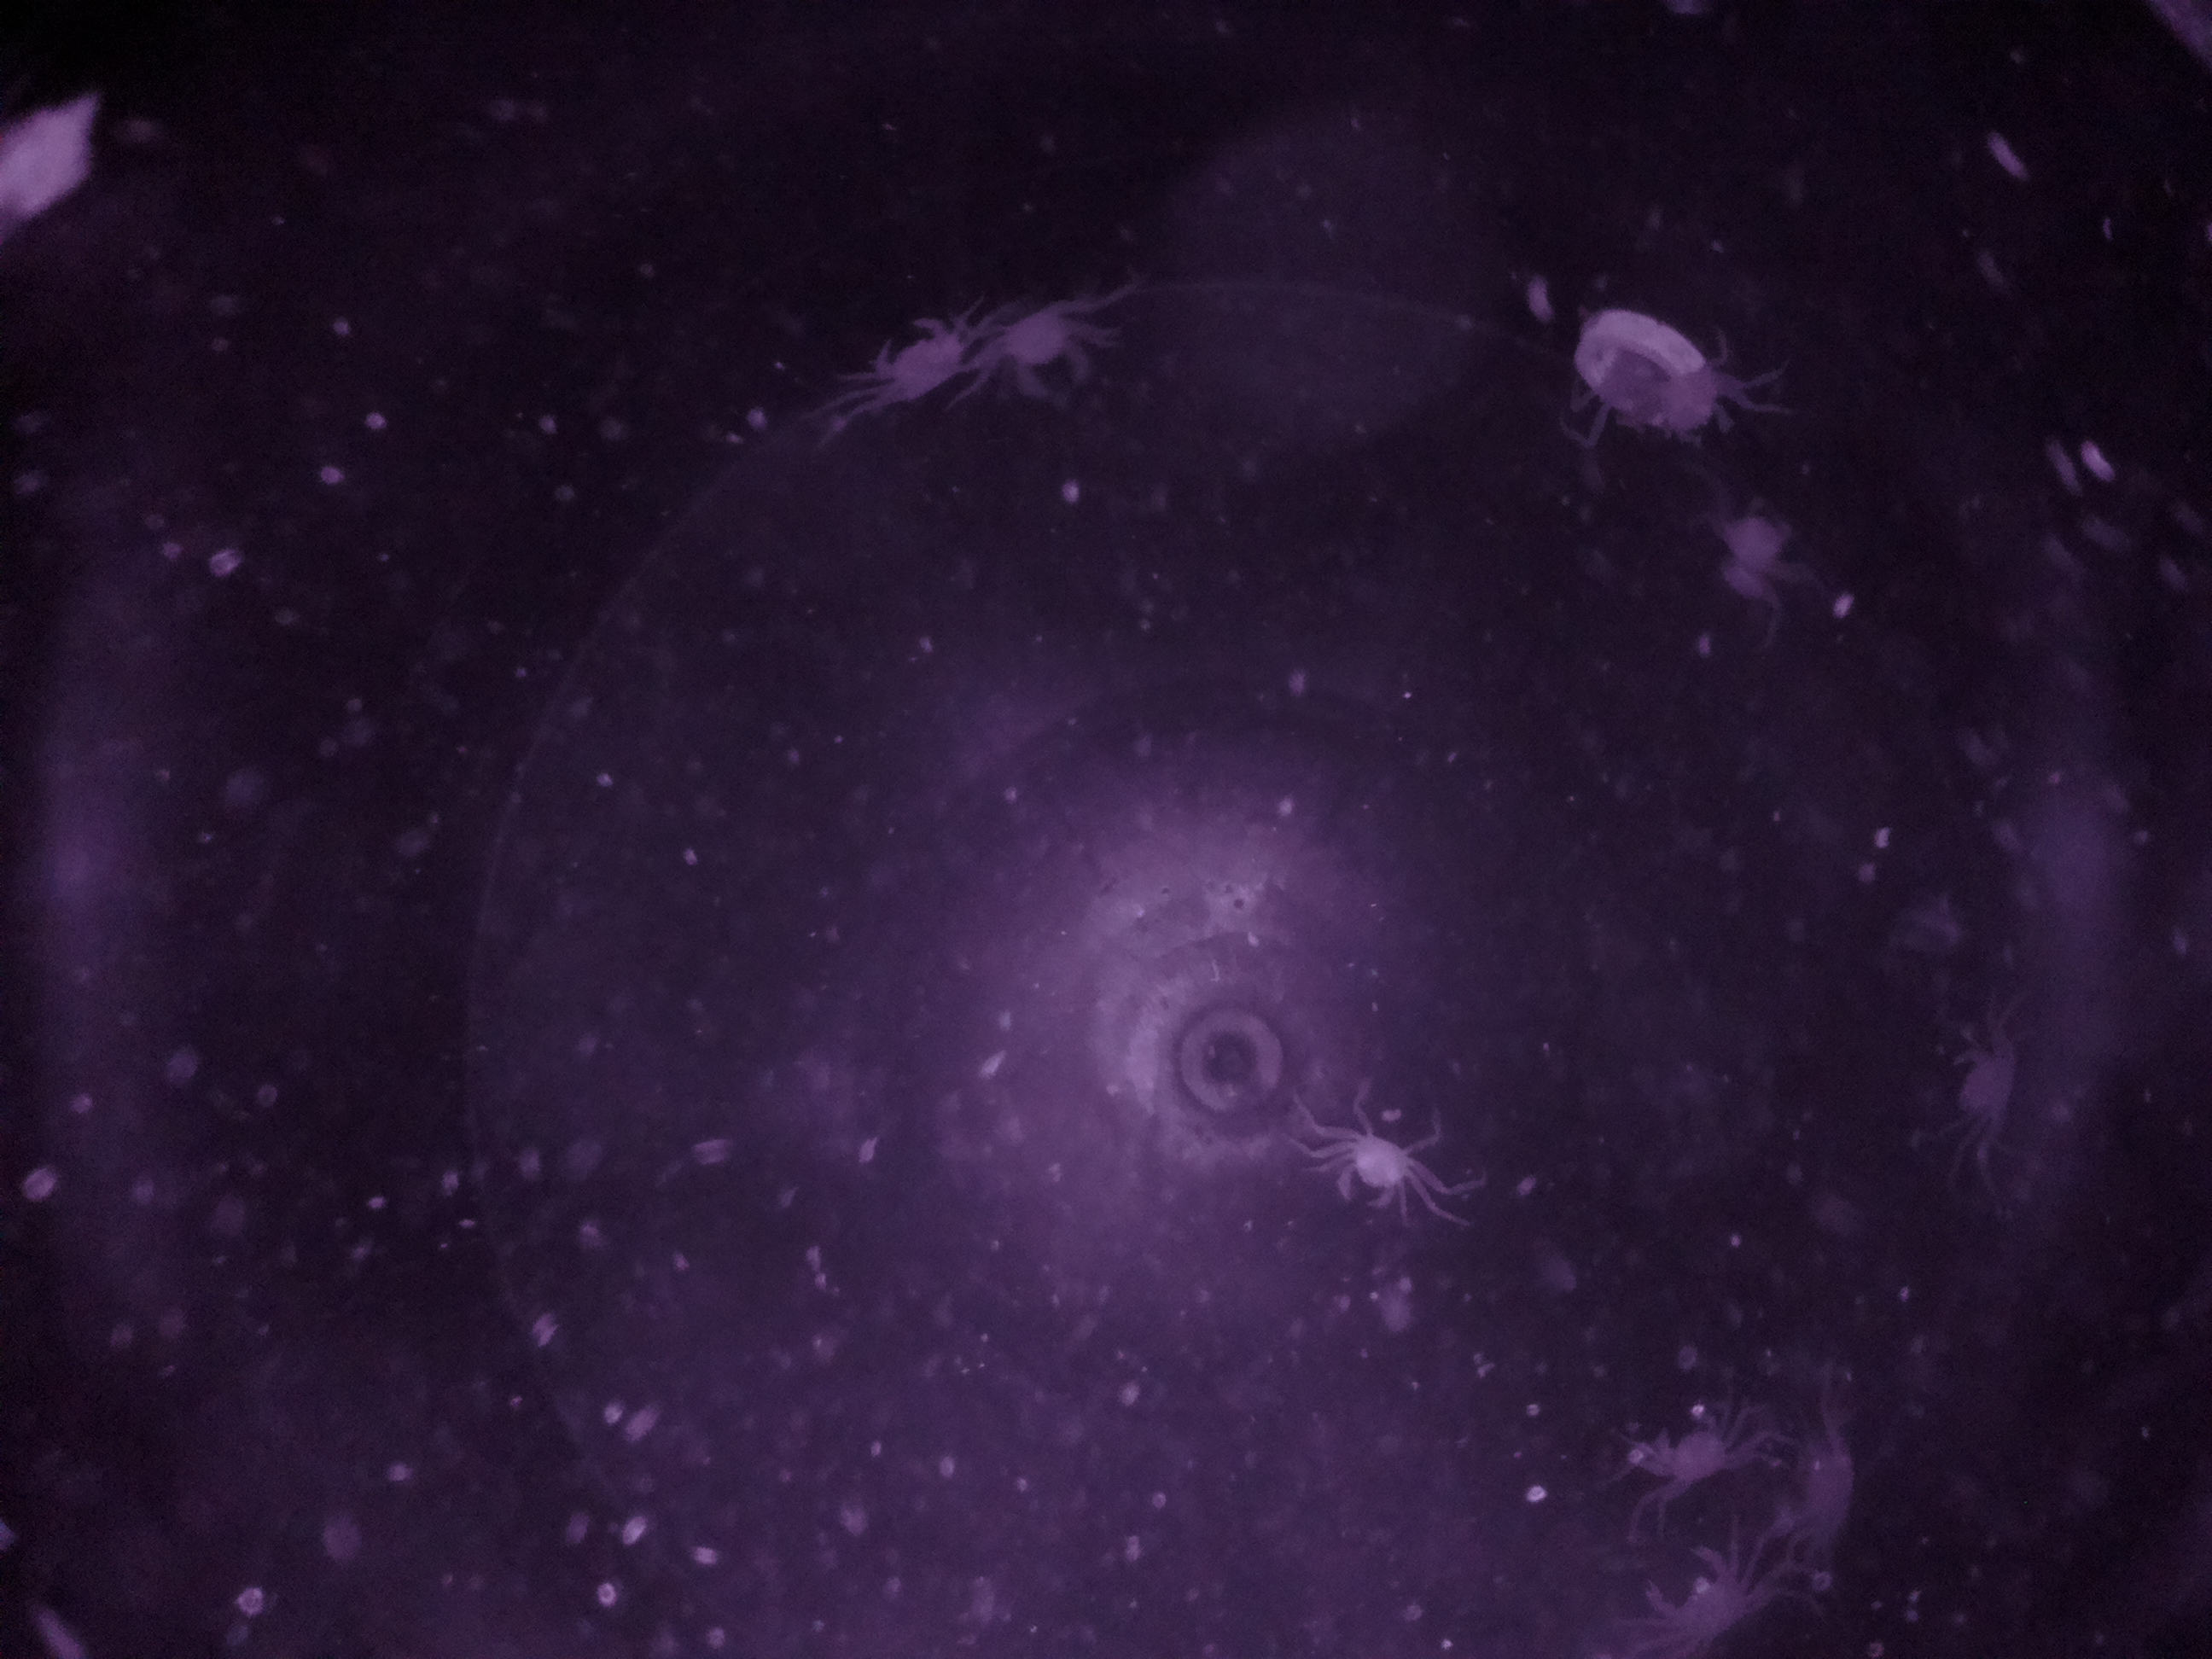Crab: (1632, 1530, 1778, 1657), (986, 282, 1101, 413), (1318, 1103, 1432, 1229), (1639, 1384, 1756, 1499), (857, 303, 968, 420), (1933, 1032, 2031, 1136)
